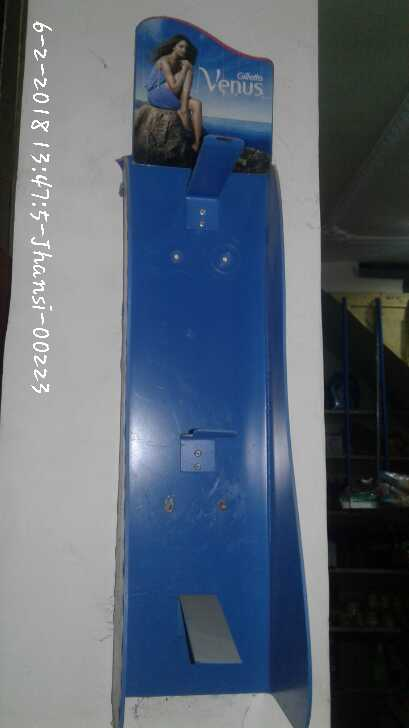reject: (186, 353, 325, 485)
